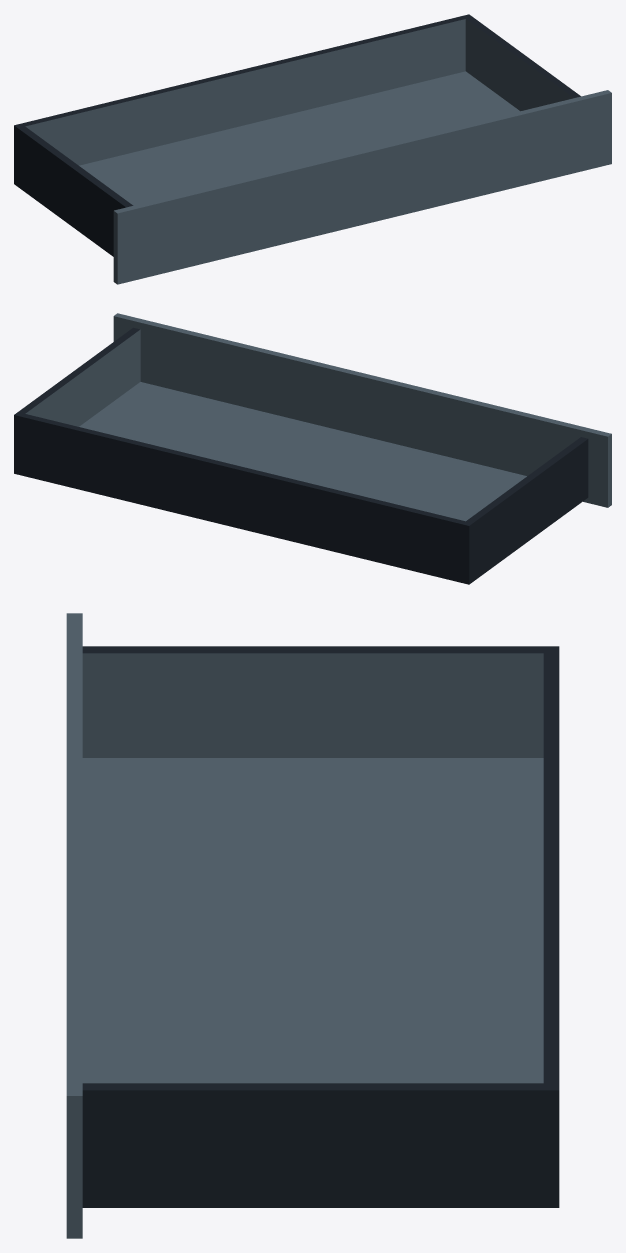
The model's file is drawer_move_wide.fbx.
3 views of the same model, one above another, from view 1: azimuth 30°, elevation 25°; view 2: azimuth 150°, elevation 25°; view 3: azimuth 270°, elevation 25° (orthographic). The views are drawn at different scales.
Visible parts, largest first — view 1: drawermove; view 2: drawermove; view 3: drawermove.
Part boxes in pixels (<box>): drawermove: <box>14,14,611,284</box>; drawermove: <box>14,313,611,584</box>; drawermove: <box>66,613,559,1238</box>.
Size of the model in its own units: 225 by 30.94 by 97.02.
